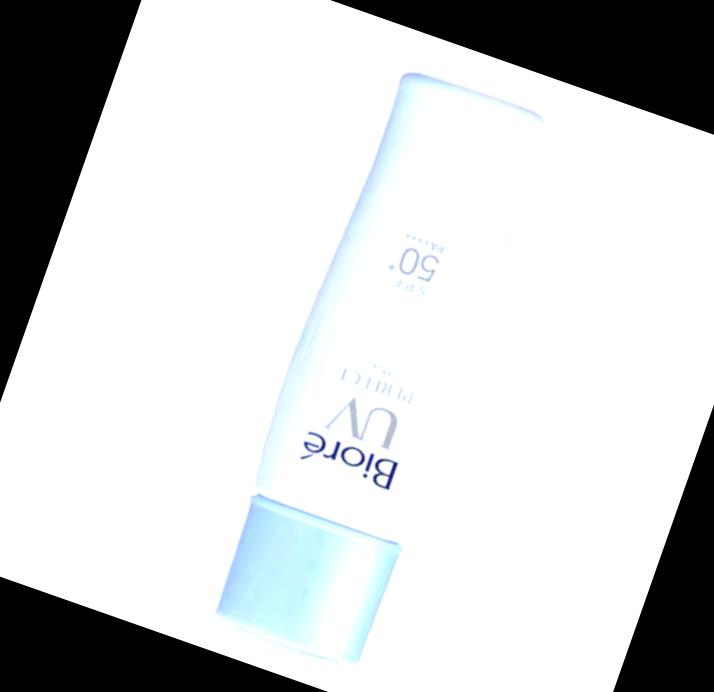cosmetic: (190, 61, 565, 676)
